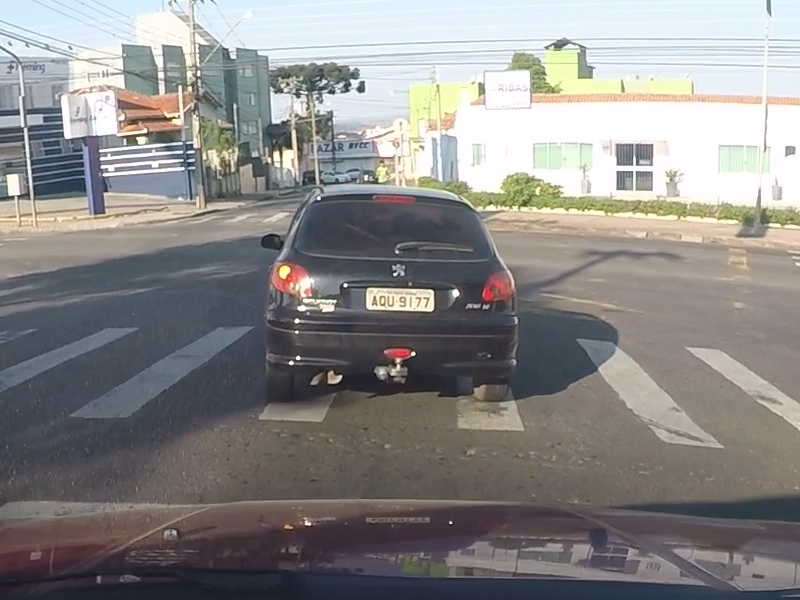placa: (366, 288, 434, 312)
